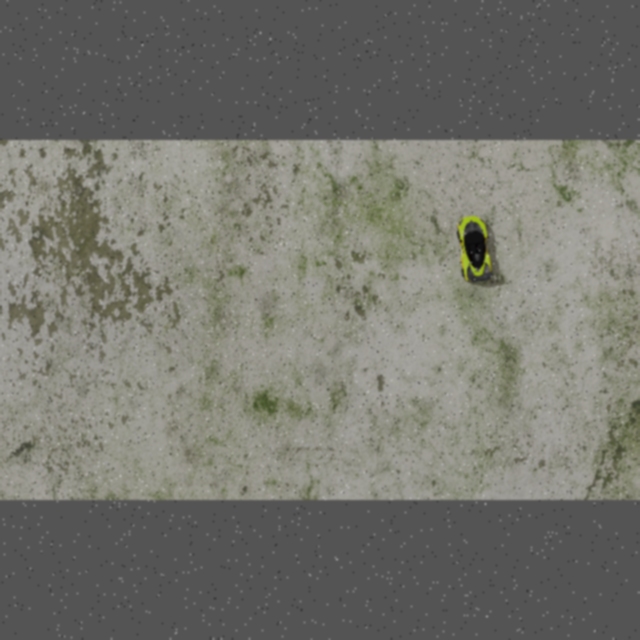car: (453, 212, 495, 284)
